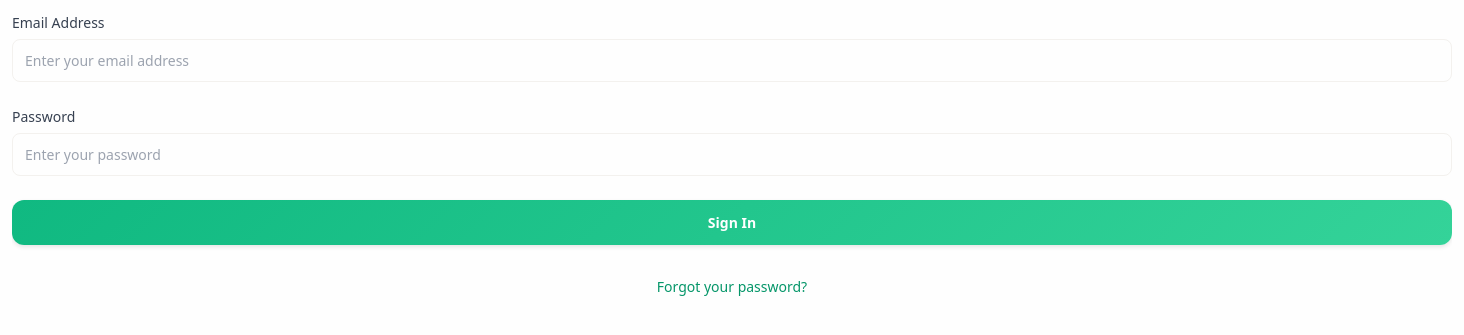
Authentication Forms › SignInForm › Form Validation › validates password is required
The width and height of the screenshot is (1464, 335).
Type "test@example.com" into the field labelled "Email Address".
click(732, 60); type("test@example.com")  # box left=12, top=39, right=1452, bottom=82
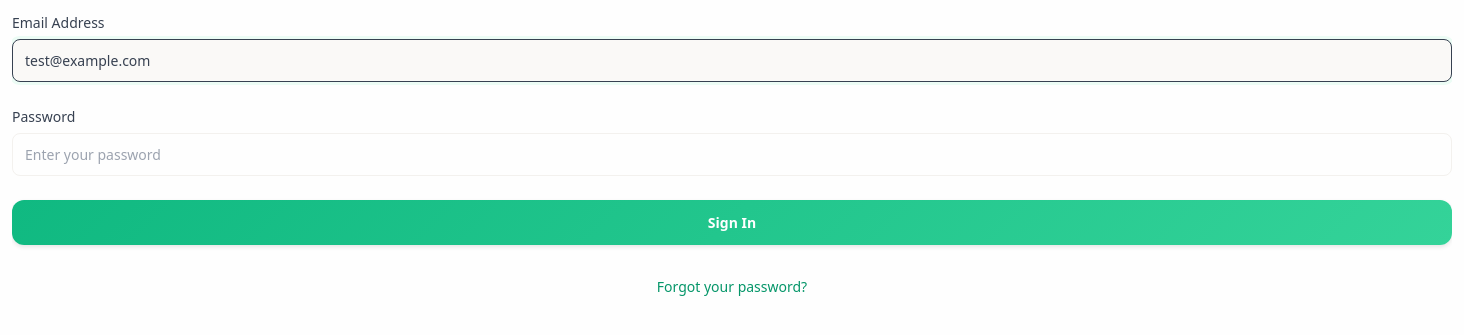
Click the button "Sign In".
click(732, 222)  # box left=12, top=200, right=1452, bottom=245
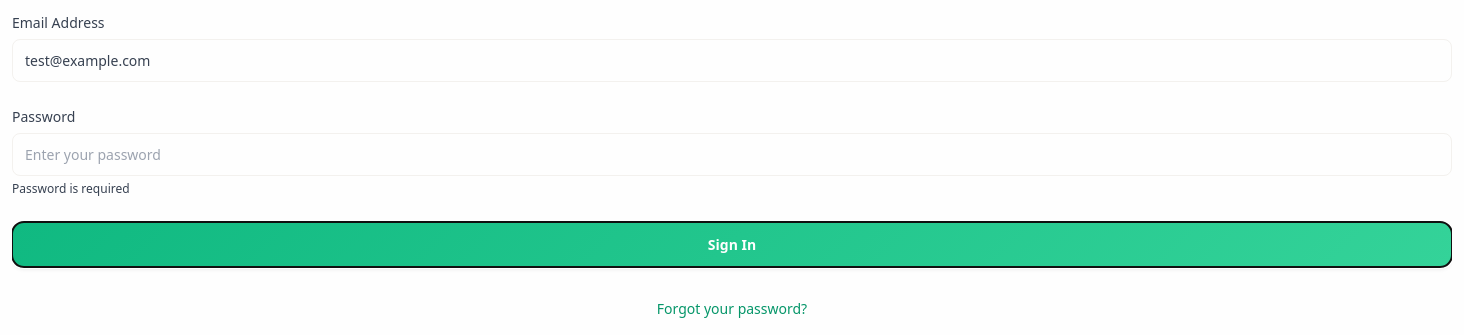
Expected: the text "Password is required" is shown, left=12, top=180, right=130, bottom=197
